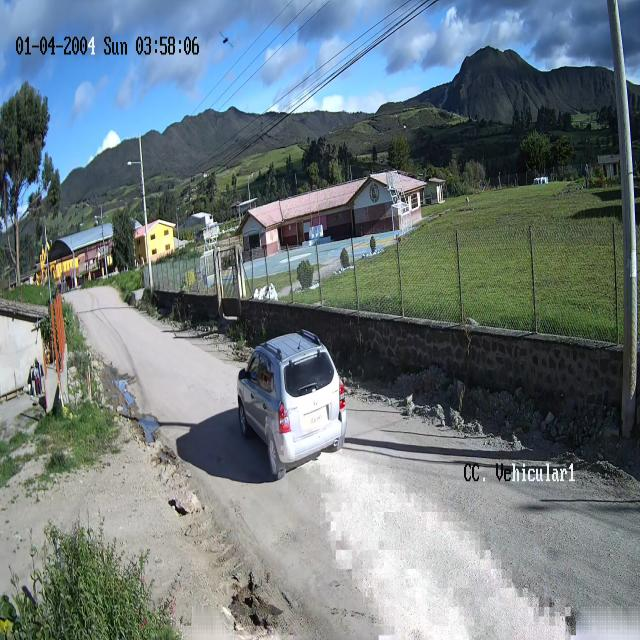SUV: (236, 332, 348, 479)
